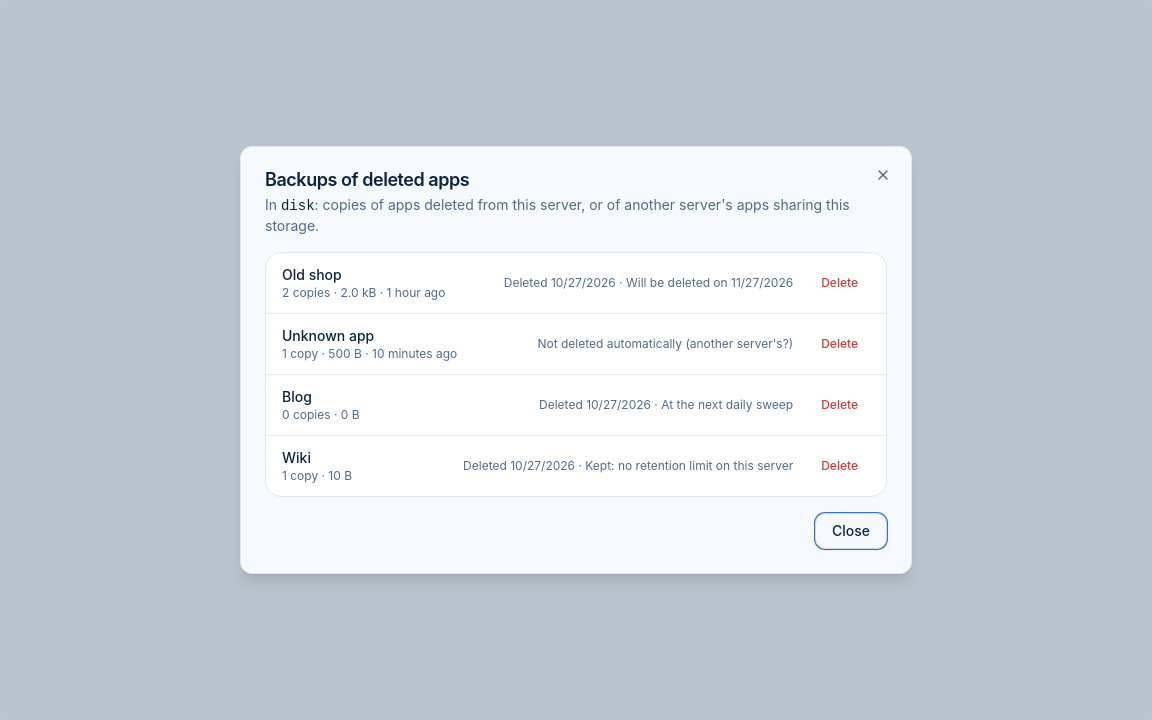
Test: OrphansDialog › deletes an orphan after a confirmation
Click the button with aria-label "Delete the backups of Old shop" at (840, 283), box [809,267,870,299]
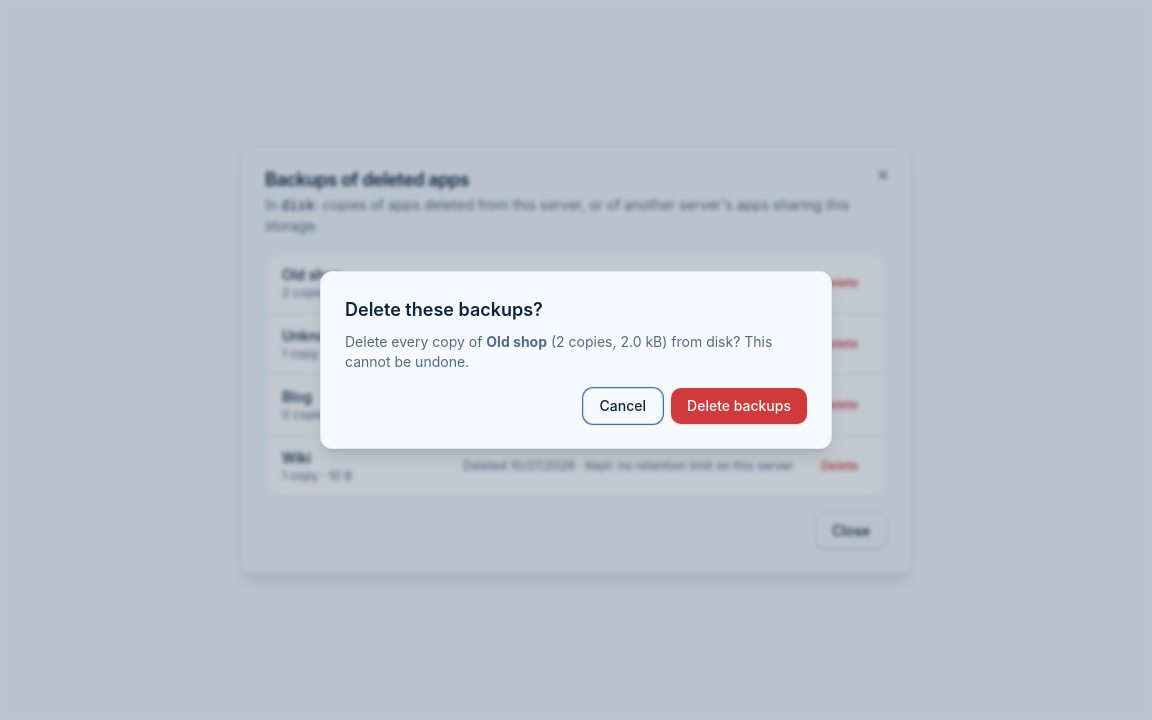
Expected: the dialog that starts with "Delete these backups?" does not show "another server", [320,271,832,449]
Now the dialog that starts with "Delete these backups?" shows "Delete every copy of Old shop (2 copies, 2.0 kB) from disk? This cannot be undone.", box [320,271,832,449]
Click the button "Cancel" at (623, 406), box [583,388,663,424]
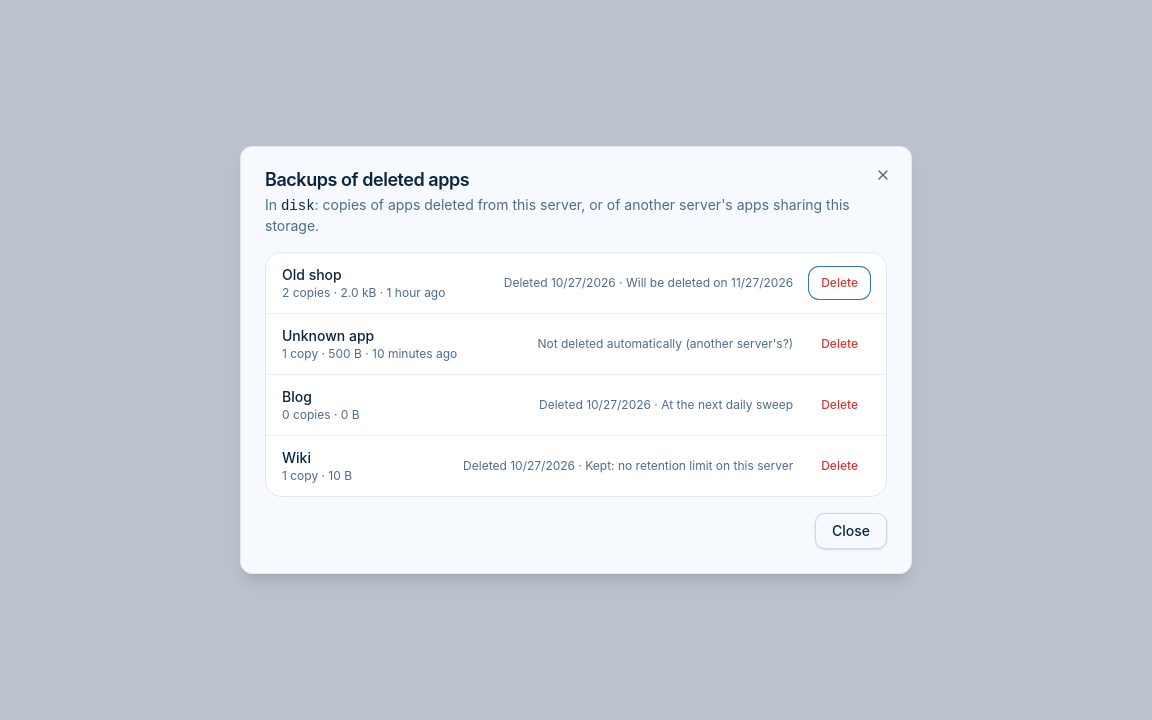
Click the button with aria-label "Delete the backups of other-server" at (840, 344), box [809,328,870,360]
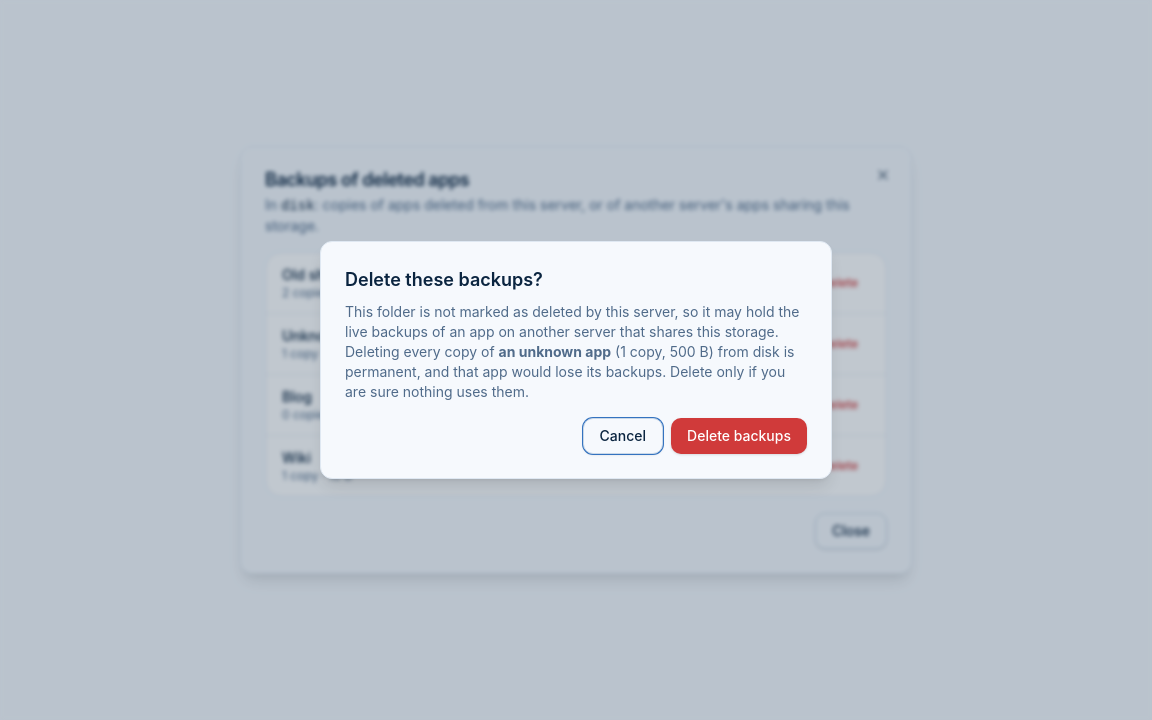
Now the dialog that starts with "Delete these backups?" shows "(1 copy, 500 B)", box [320,241,832,479]
Click the button "Delete backups" at (739, 436), box [671,418,807,454]
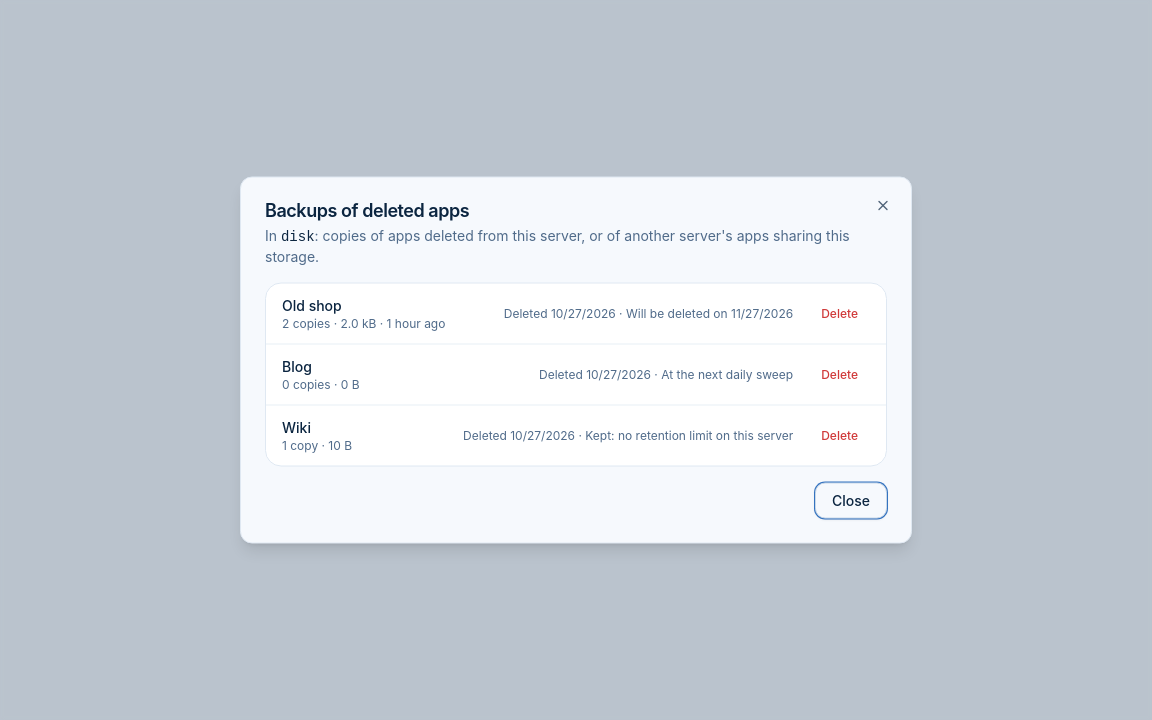
Now the text titled "other-server" is gone
